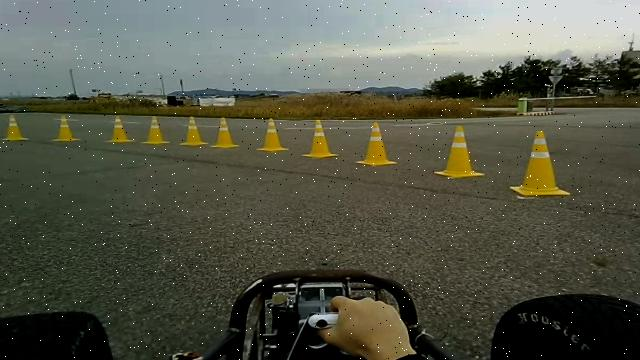yellow cone: (509, 130, 570, 197), (433, 124, 485, 178), (355, 121, 397, 166), (302, 119, 338, 158), (256, 117, 289, 152), (210, 116, 239, 148), (103, 115, 136, 143), (140, 115, 170, 145), (179, 116, 208, 146), (0, 114, 29, 141), (51, 114, 80, 141)
